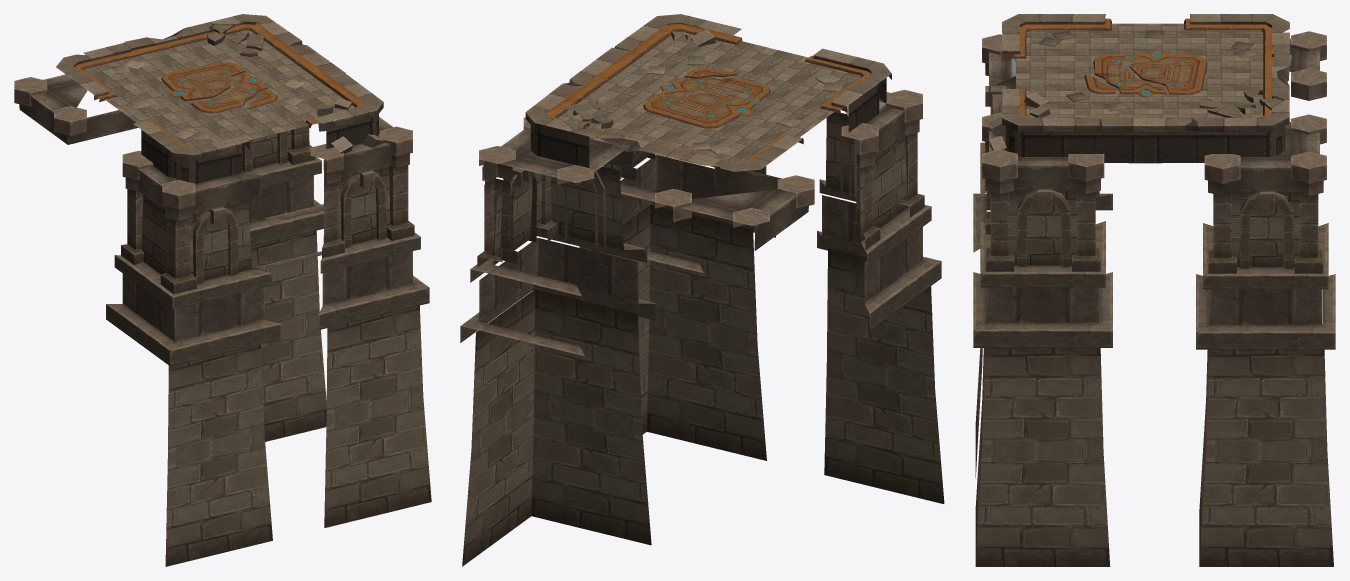
Rendered from section03_guanka09_dimian04.FBX.
The picture shows the model from 3 angles, left to right: view 1: azimuth 30°, elevation 25°; view 2: azimuth 150°, elevation 25°; view 3: azimuth 270°, elevation 25°; orthographic projection. The views are drawn at different scales.
Visible parts, largest first — view 1: section03_guanka09_dimian04; view 2: section03_guanka09_dimian04; view 3: section03_guanka09_dimian04.
Part boxes in pixels (left/top/right/bottom): section03_guanka09_dimian04: left=14, top=14, right=431, bottom=566; section03_guanka09_dimian04: left=460, top=14, right=944, bottom=566; section03_guanka09_dimian04: left=973, top=14, right=1335, bottom=566.
Size of the model in its own units: 26.57 by 28.81 by 37.69.
